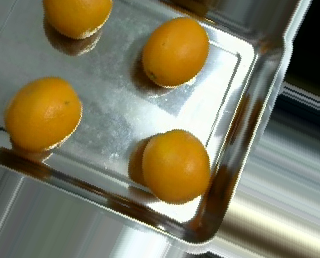Orange: (5, 76, 83, 150), (141, 128, 210, 204), (141, 16, 209, 86)
